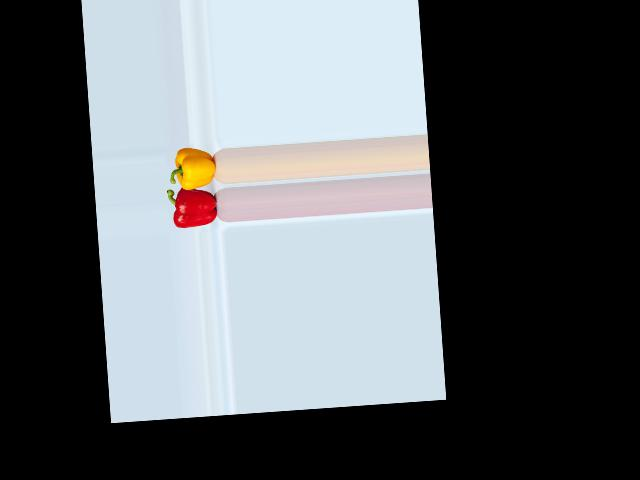bell_pepper: (168, 184, 223, 232)
